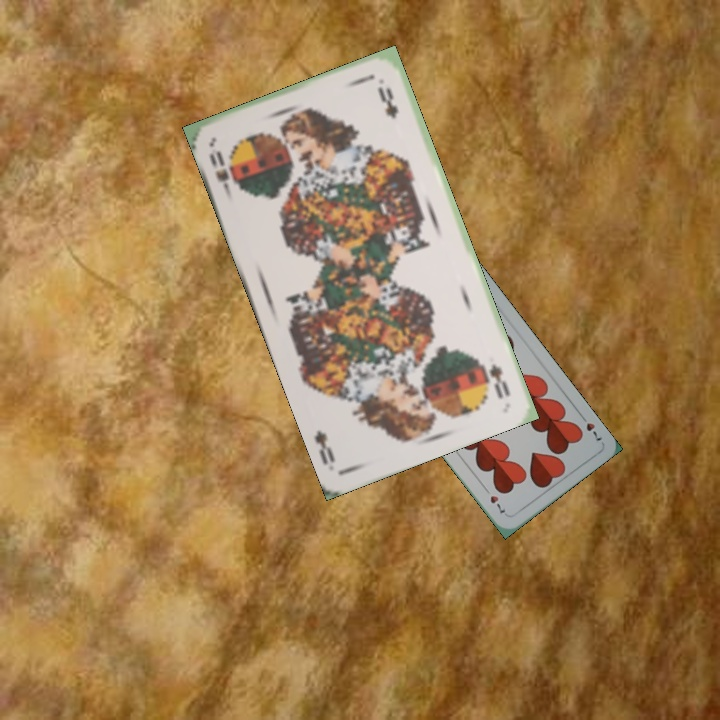H7: (576, 410, 605, 444)
SO: (205, 146, 234, 200), (485, 359, 513, 402)
